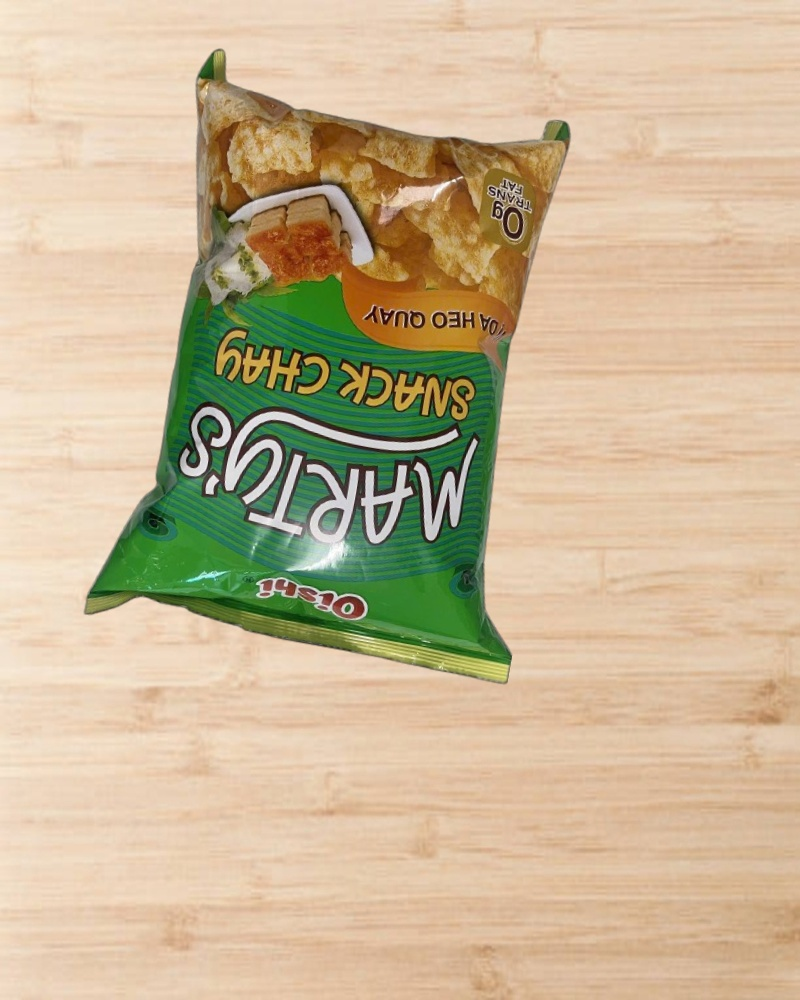Snack chay: (104, 49, 606, 689)
